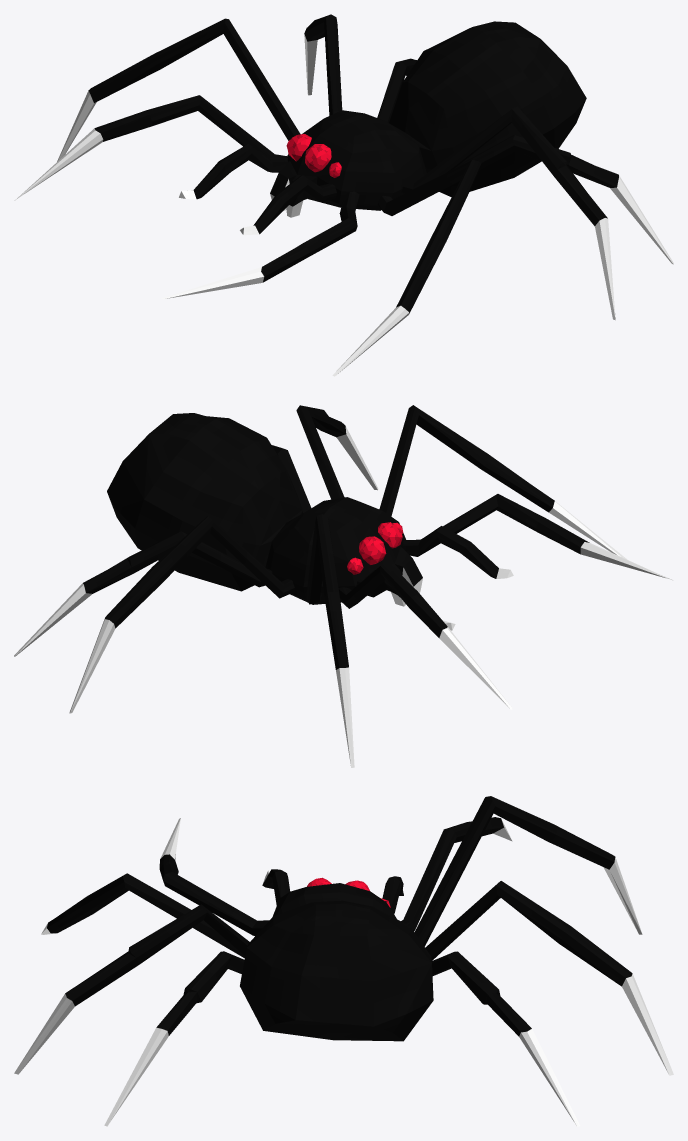
The model's file is spiderAttack2.obj.
The picture shows the model from 3 angles, top to bottom: view 1: azimuth 30°, elevation 25°; view 2: azimuth 150°, elevation 25°; view 3: azimuth 270°, elevation 25°; orthographic projection. The views are drawn at different scales.
Parts seen in each view (by area): view 1: Cube.004_Cube.005; view 2: Cube.004_Cube.005; view 3: Cube.004_Cube.005.
Boxes of the visible parts, x1,y1,x2,y2 form: Cube.004_Cube.005: (14,14,673,376); Cube.004_Cube.005: (14,405,673,767); Cube.004_Cube.005: (14,796,673,1126).
Size of the model in its own units: 31.13 by 11.09 by 34.68.
